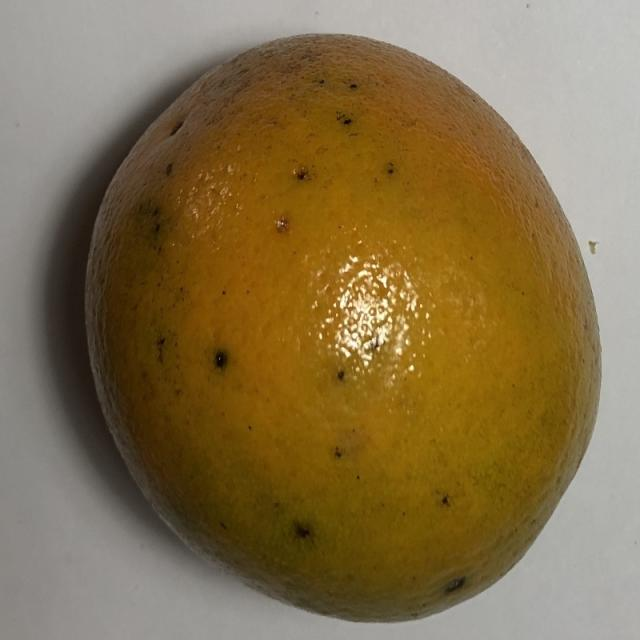black spot: (49, 19, 616, 626)
